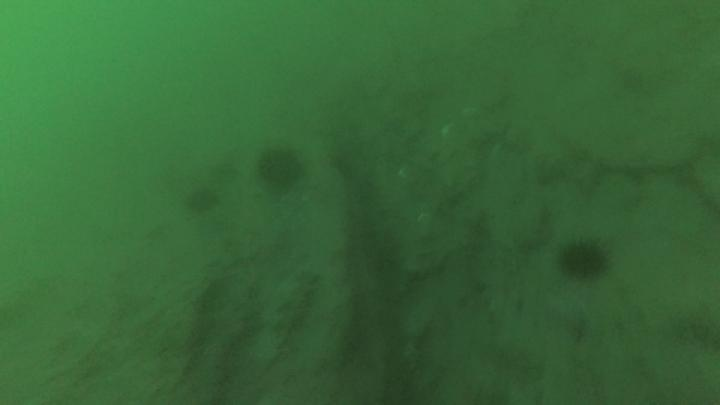echinus: (556, 235, 612, 281), (256, 144, 306, 192), (183, 184, 222, 216)
